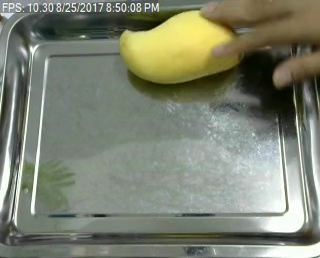Mango: (112, 9, 253, 87)
